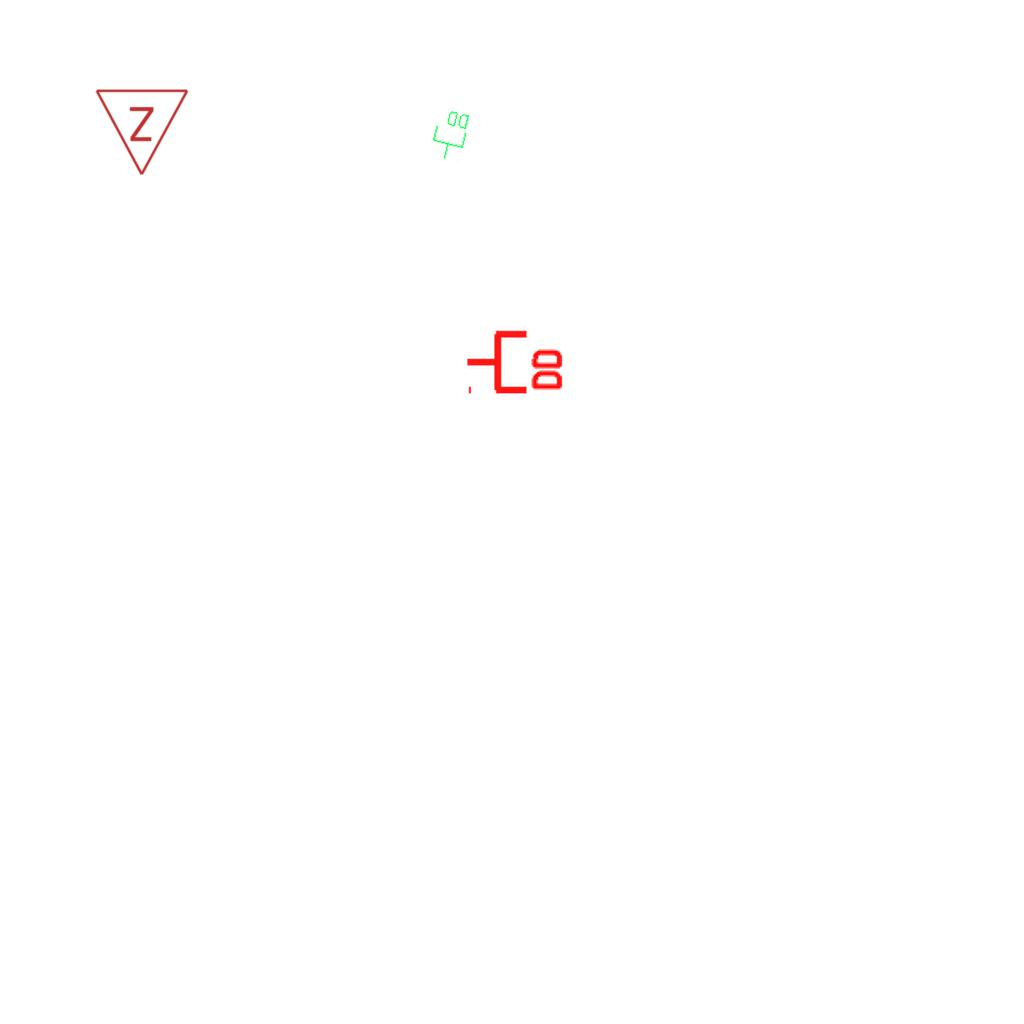Datenanschluss_zweifach: (464, 326, 567, 395), (427, 106, 474, 164)
Zimmersignalleuchte: (94, 82, 192, 182)
